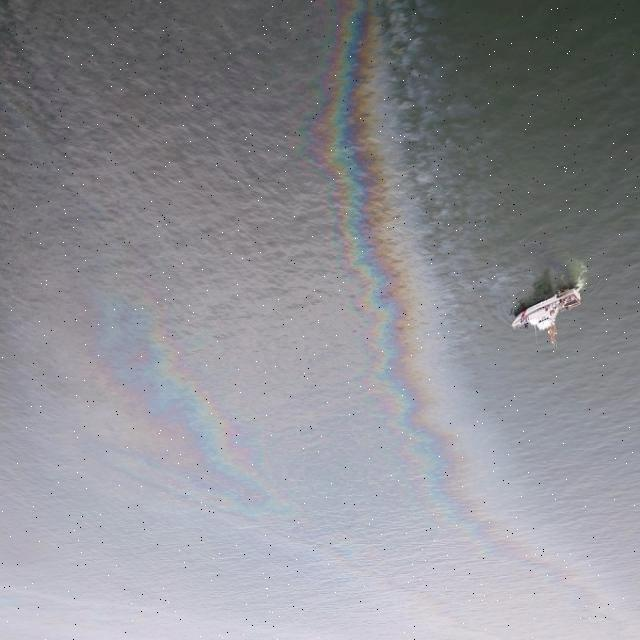oil: (309, 1, 465, 514)
